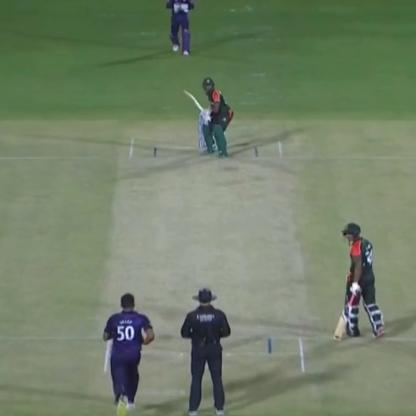pitch: (106, 138, 310, 378)
